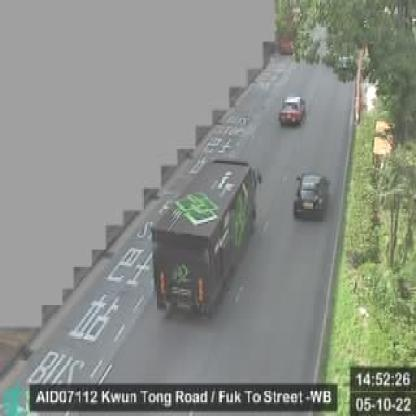Car: (292, 174, 328, 218), (280, 96, 306, 128)
Truck: (155, 158, 260, 314)
